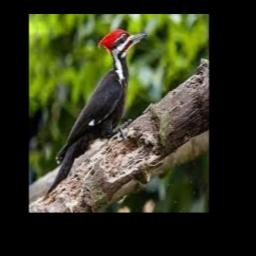Woodpecker: (45, 28, 148, 196)
